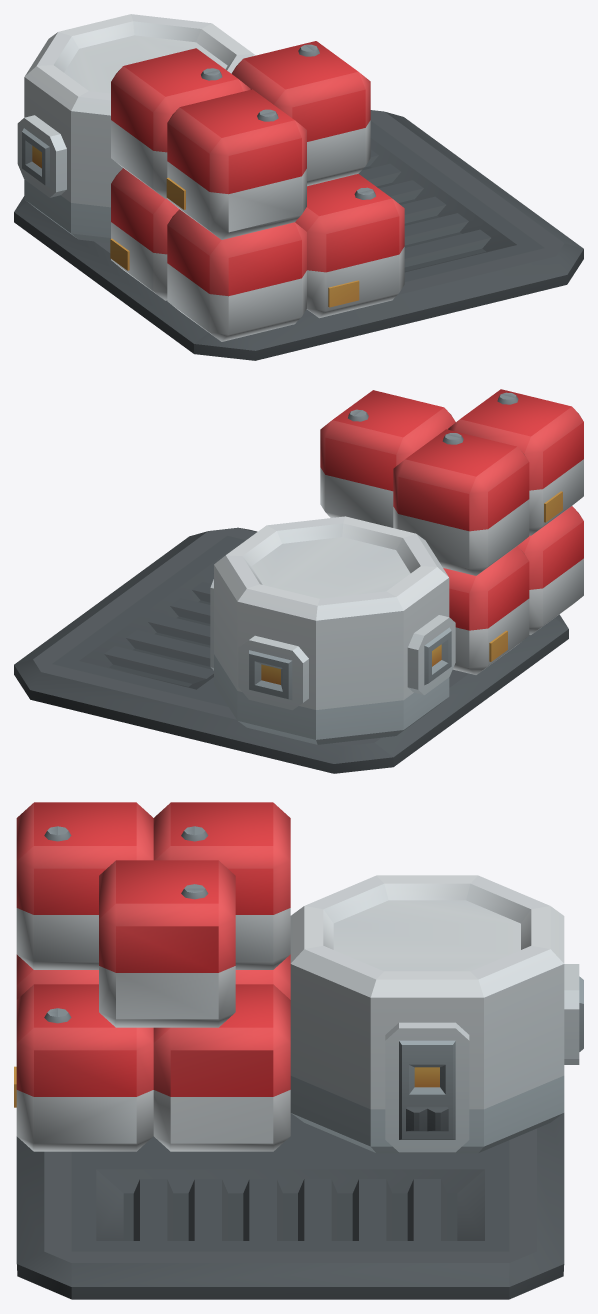
Rendered from Cargo Depot A.glb.
3 views of the same model, one above another, from view 1: azimuth 30°, elevation 25°; view 2: azimuth 150°, elevation 25°; view 3: azimuth 270°, elevation 25° (orthographic). The views are drawn at different scales.
Parts seen in each view (by area): view 1: cargodepot_A; view 2: cargodepot_A; view 3: cargodepot_A.
Part boxes in pixels (x1=…): cargodepot_A: x1=14, y1=14, x2=583, y2=360; cargodepot_A: x1=14, y1=389, x2=583, y2=773; cargodepot_A: x1=14, y1=802, x2=583, y2=1299.
Bounding box in the file's own units: 2.07 × 1.12 × 2.08.
Materials: 1 (1 with a texture image).
